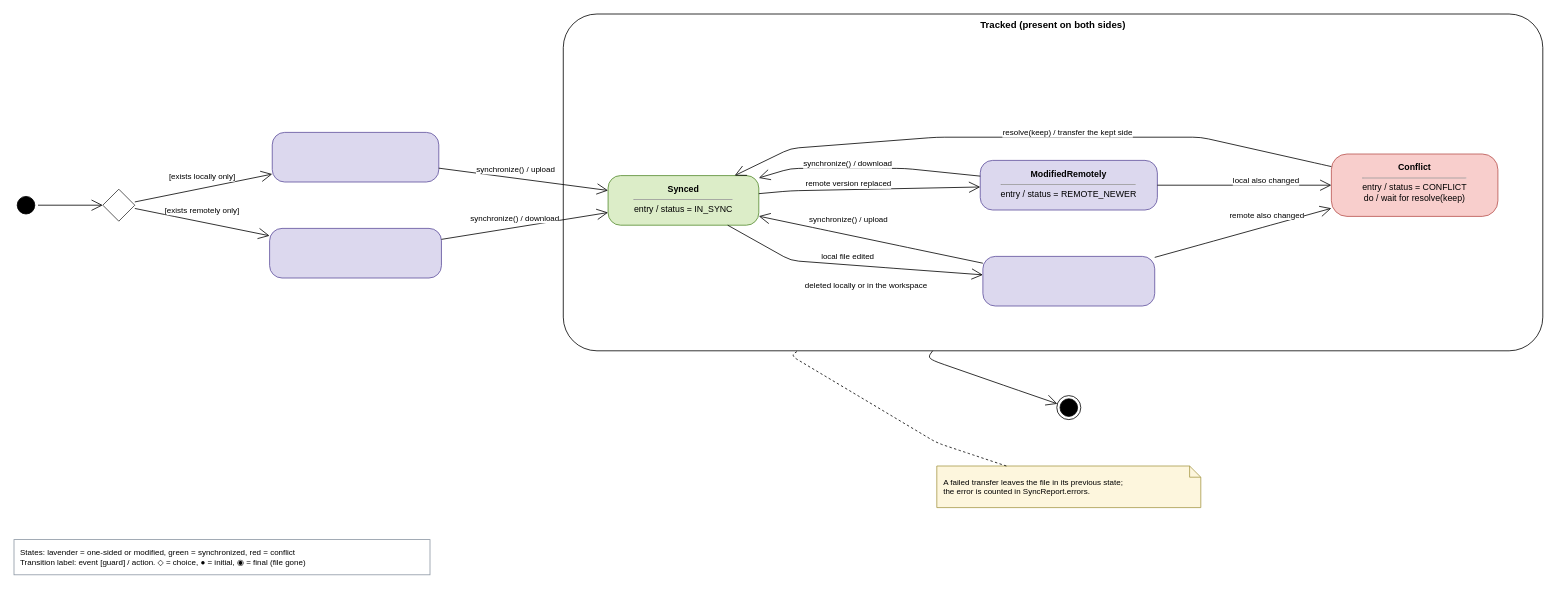
This 1557x589 diagram has some shape labels left out. Each missing label, with the box of its shape:
LocalOnly entry / status = LOCAL_ONLY: (271, 132, 439, 182)
ModifiedLocally entry / status = LOCAL_NEWER: (982, 256, 1155, 306)
RemoteOnly entry / status = REMOTE_ONLY: (269, 228, 441, 278)
